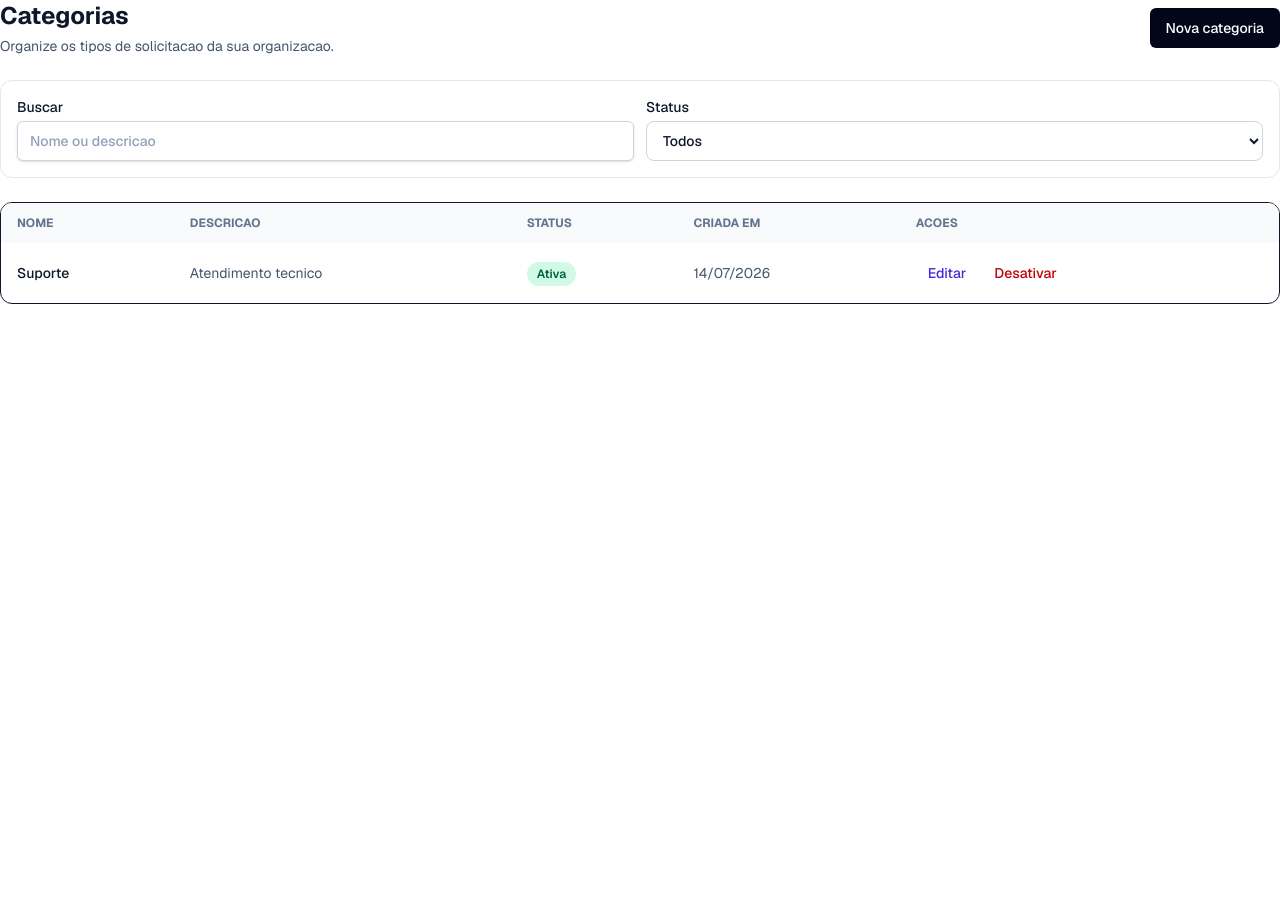
Test: gerenciamento de categorias › trata duplicidade no nome
Expected: the text "Suporte" is shown, 1,243 -> 174,303
Click the button "Nova categoria": (1215, 28) 1150,8 -> 1279,48
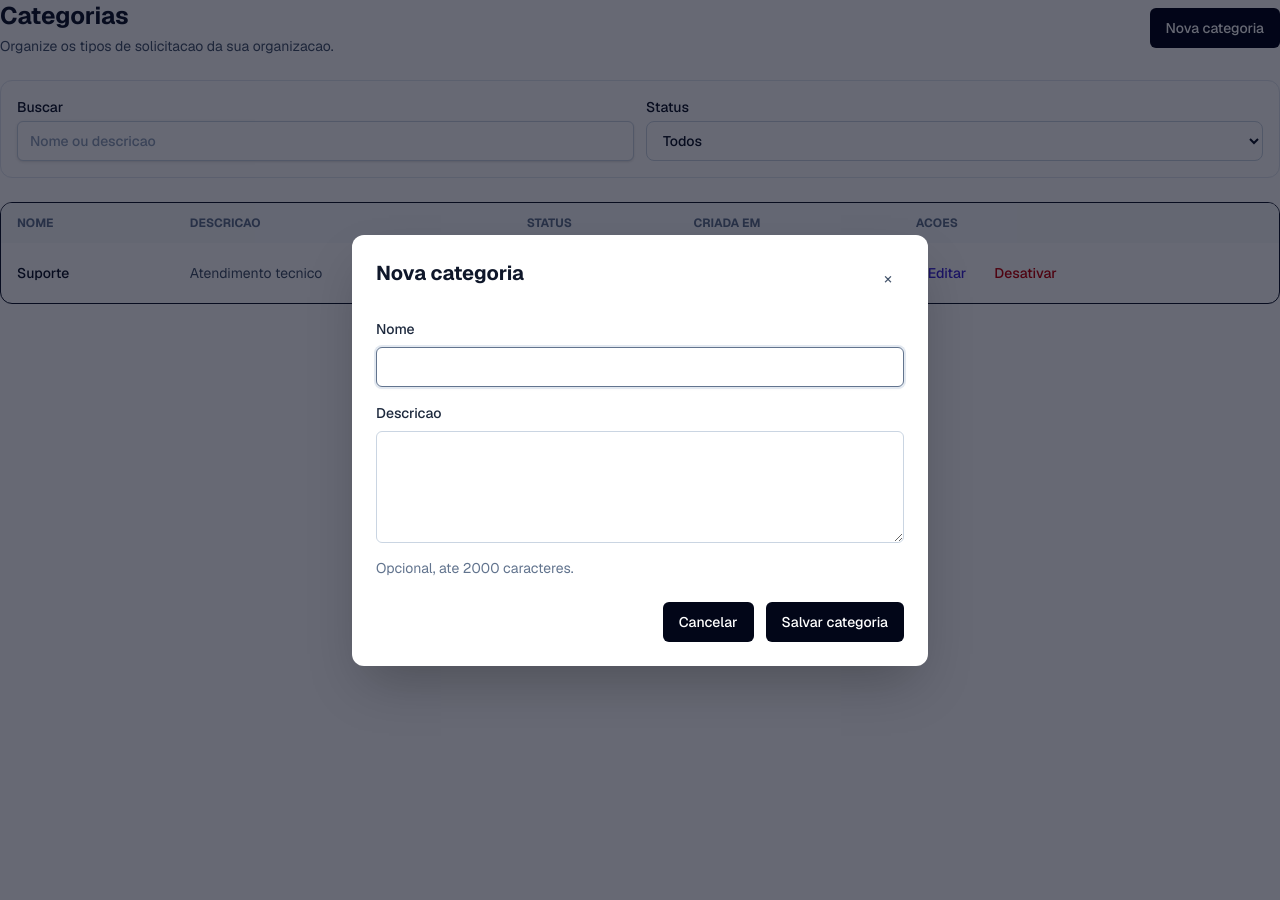
In the field labelled "Nome": (640, 366) 376,346 -> 904,386, type "Suporte"
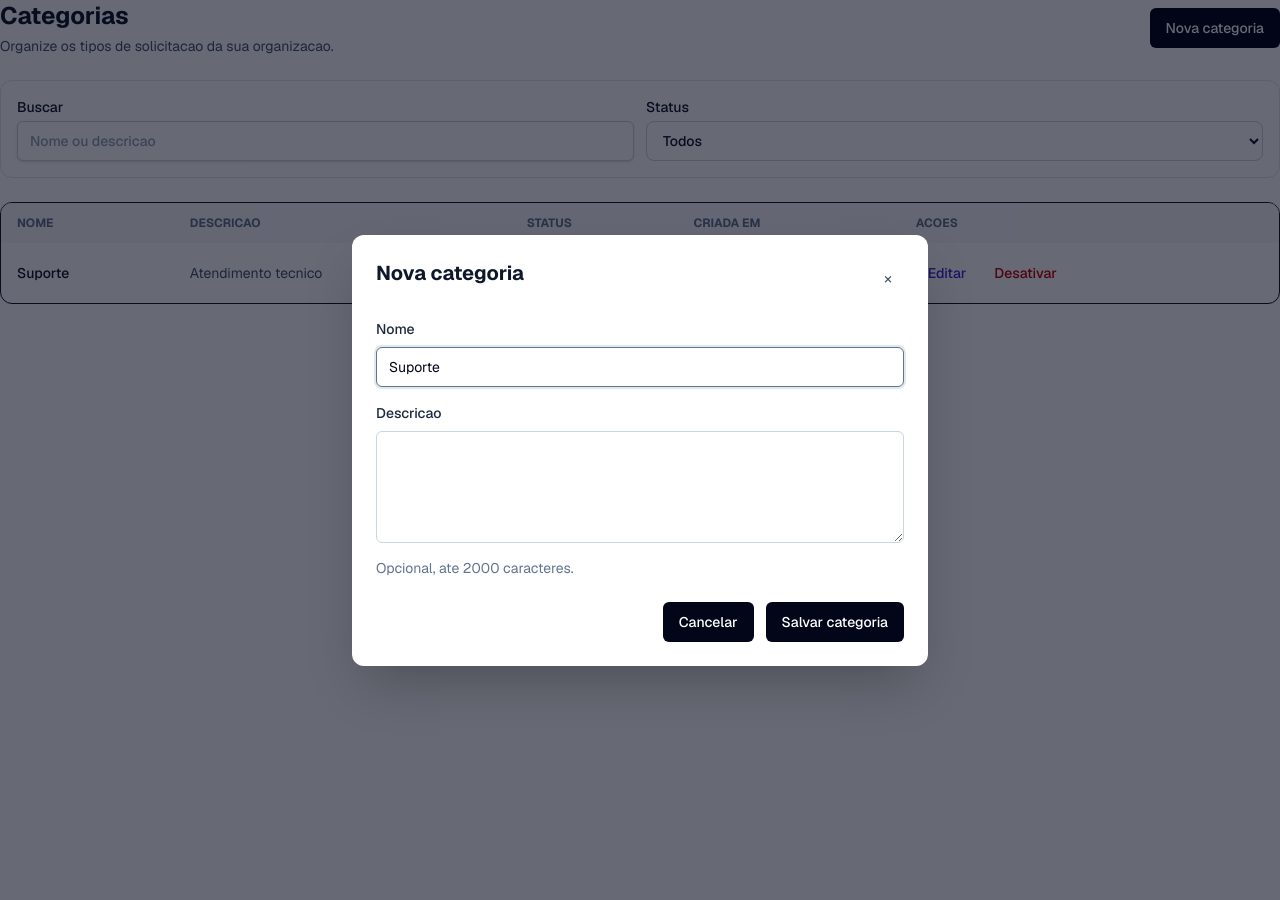
In the text box labelled "Descricao": (640, 486) 376,430 -> 904,542, type "Contas e pagamentos"
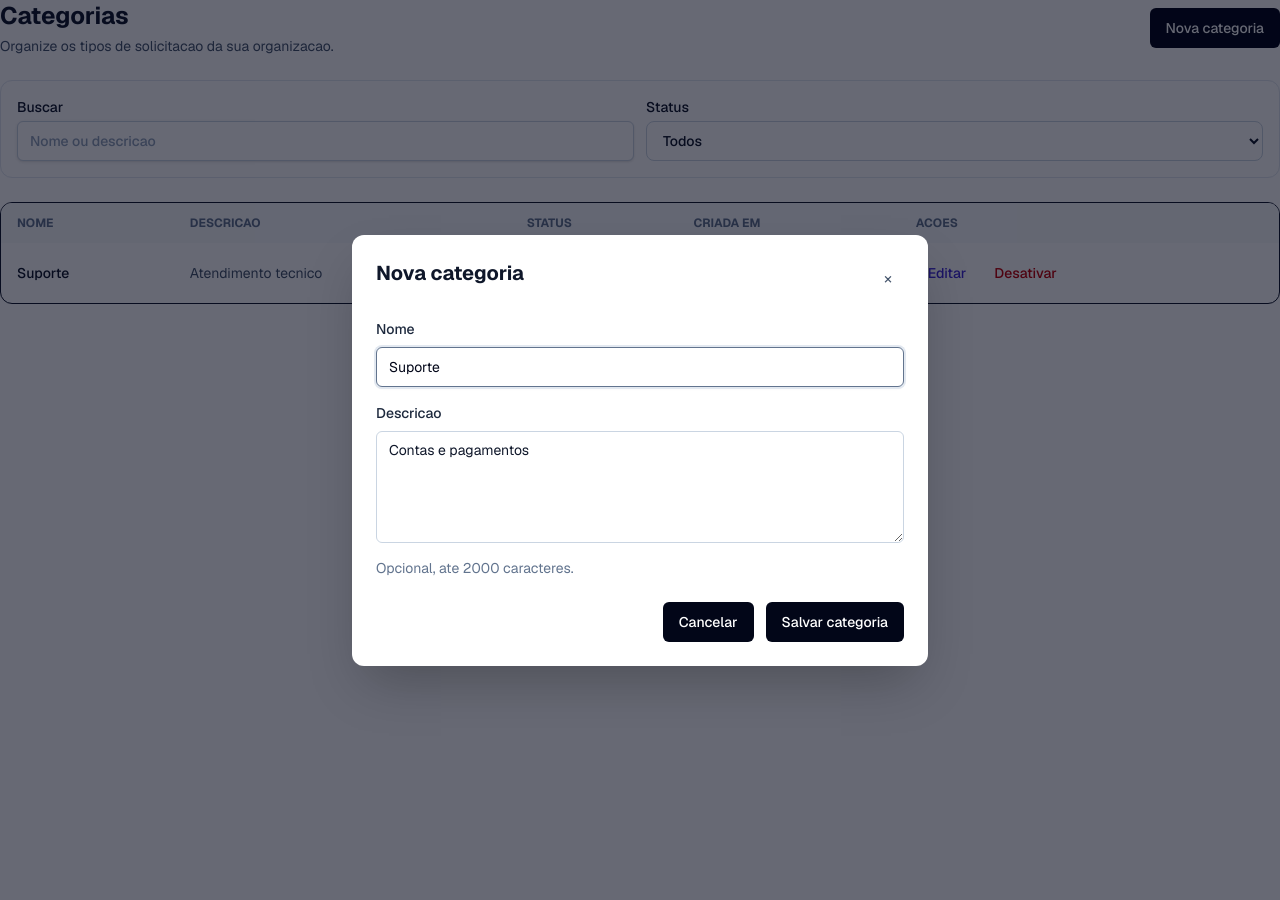
Click the button "Salvar categoria": (835, 622) 766,602 -> 904,642
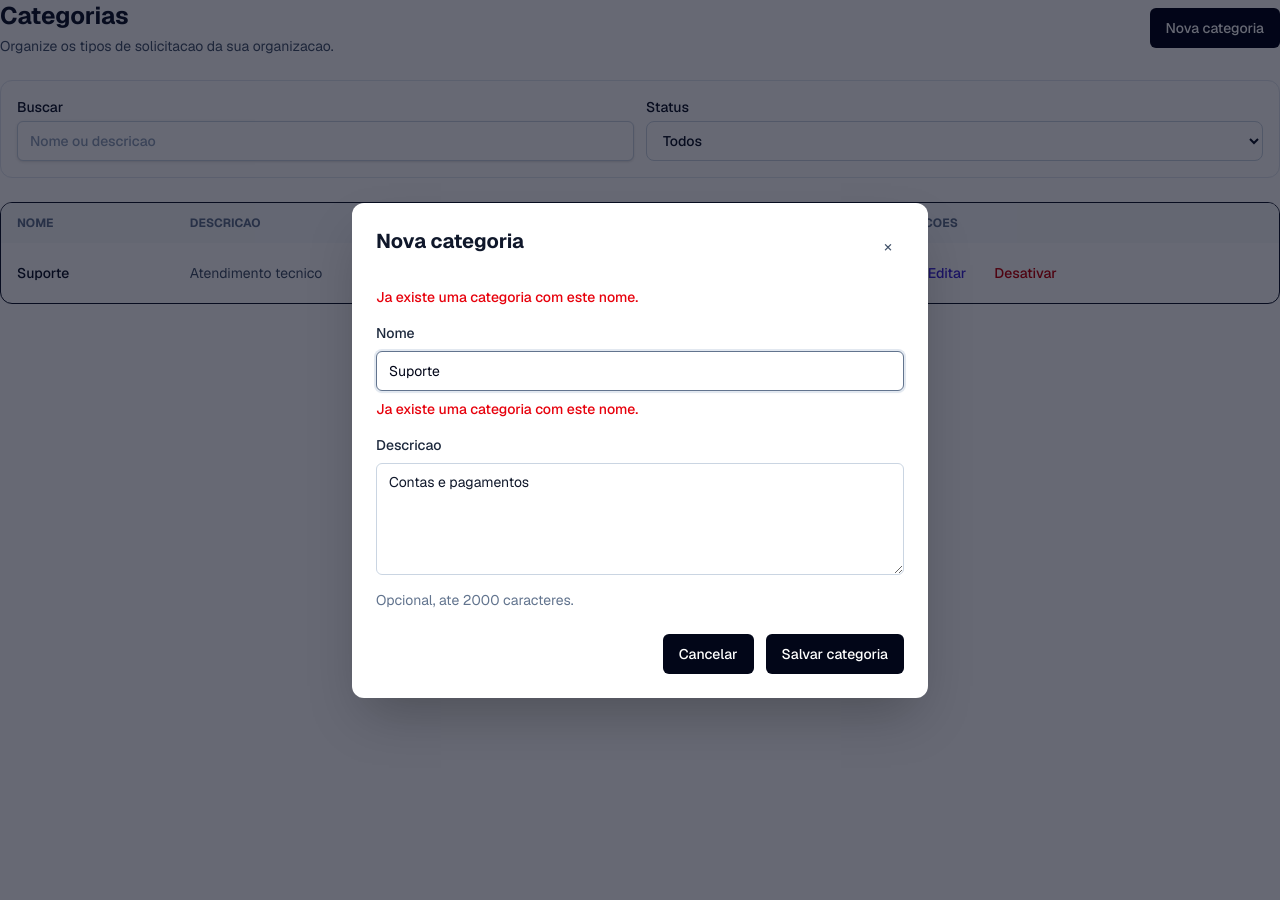
Now the 1st text "Ja existe uma categoria com este nome." is shown, box 376,288 -> 638,306
